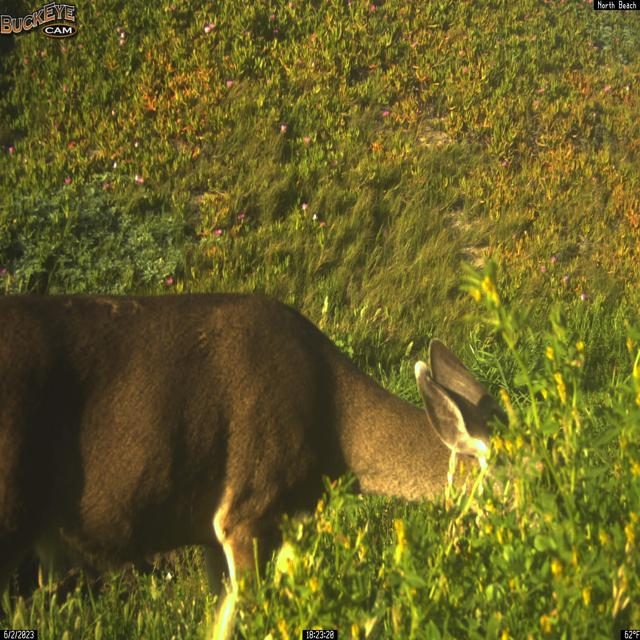deer: (0, 288, 524, 640)
